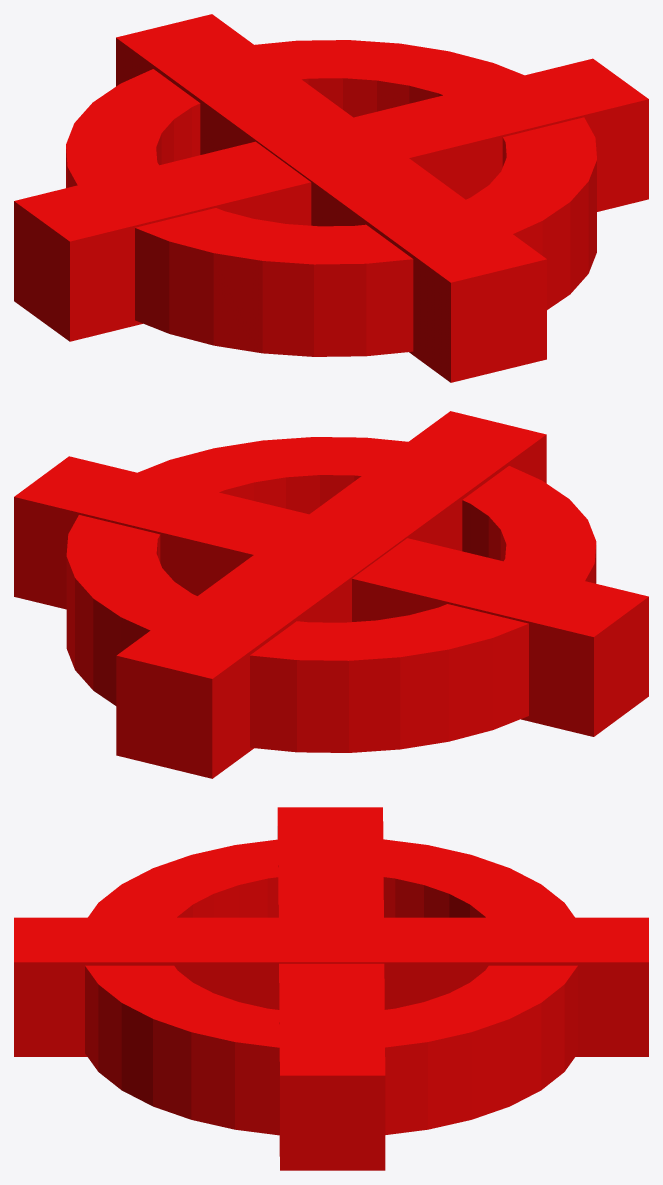
File: target3.gltf
3 views of the same model, one above another, from view 1: azimuth 30°, elevation 25°; view 2: azimuth 150°, elevation 25°; view 3: azimuth 270°, elevation 25° (orthographic). The views are drawn at different scales.
Visible parts, largest first — view 1: Target; view 2: Target; view 3: Target.
Boxes of the visible parts, x1,y1,x2,y2 form: Target: (14, 14, 648, 382); Target: (14, 411, 648, 778); Target: (14, 807, 648, 1170).
Size of the model in its own units: 2.52 by 0.4222 by 2.52.
3 materials, 3 textured.
